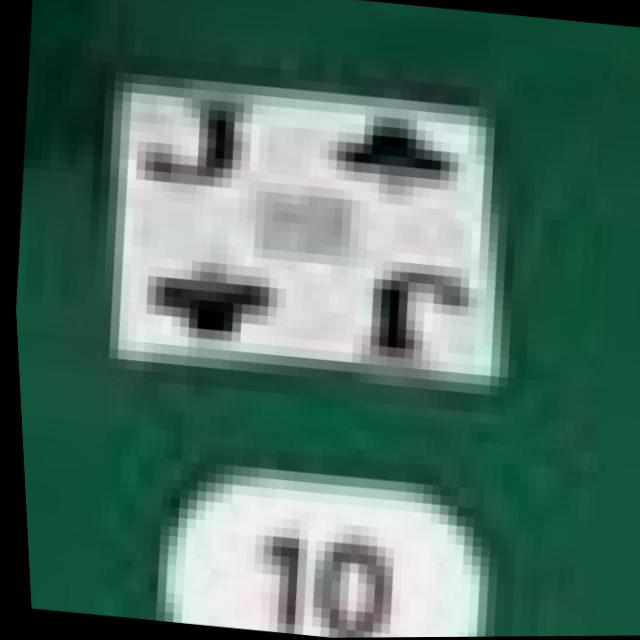Card-J: (117, 78, 490, 381)
